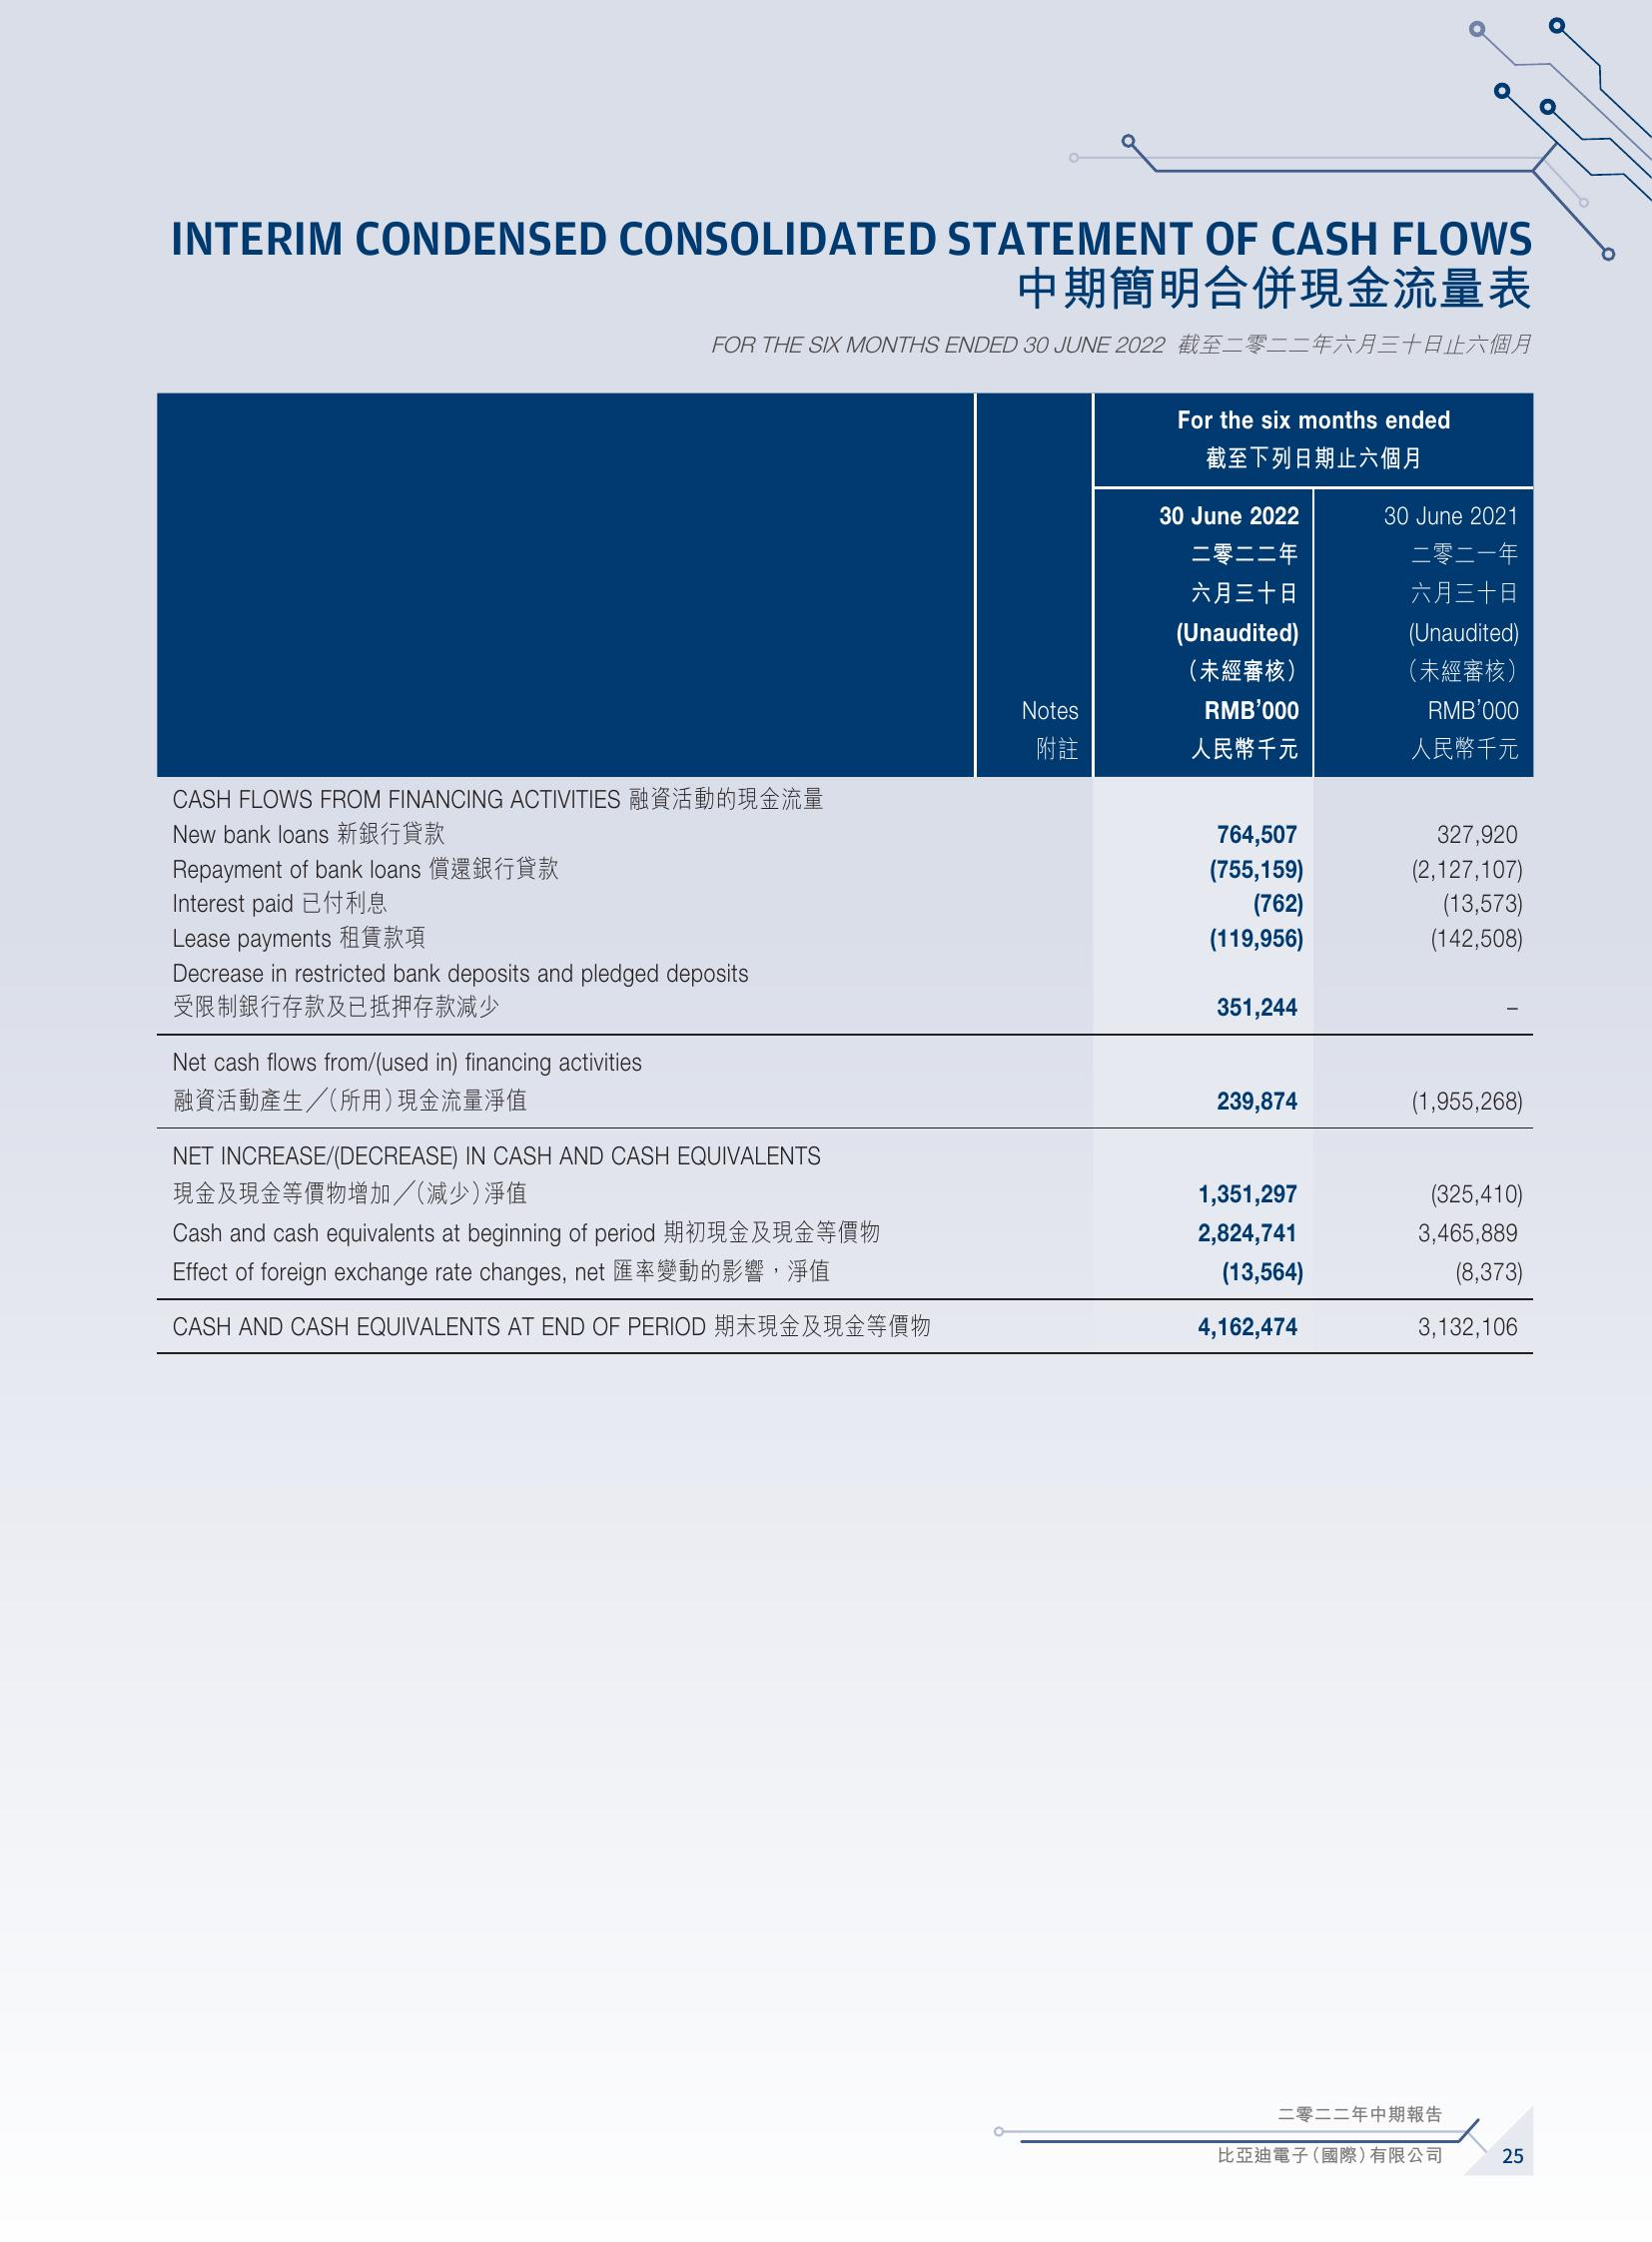Footer: (0, 2089, 1652, 2242)
Header: (0, 0, 1652, 193)
Table: (136, 376, 1551, 1368)
